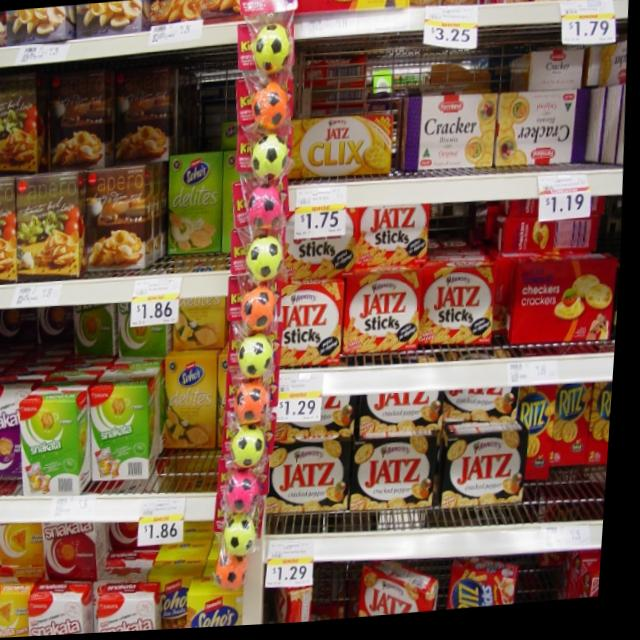q109: (359, 432, 451, 520), (269, 432, 356, 524), (449, 423, 541, 510)
